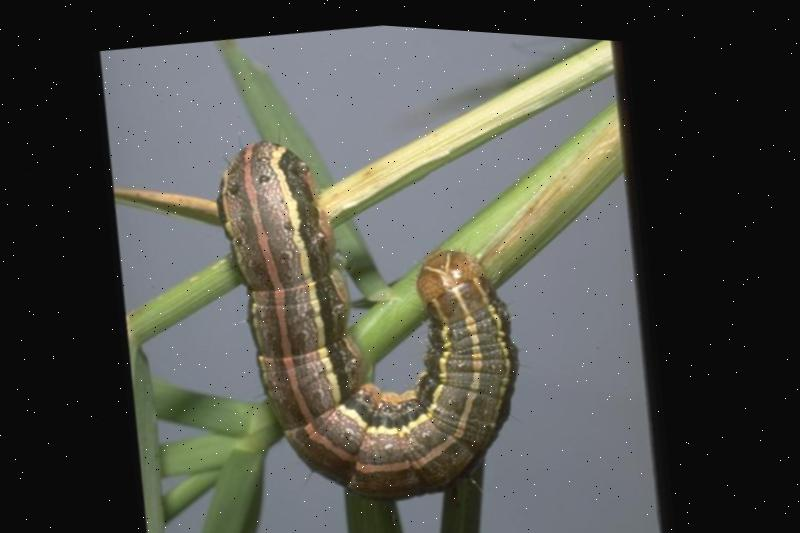fall-armyworm: (218, 136, 524, 495)
